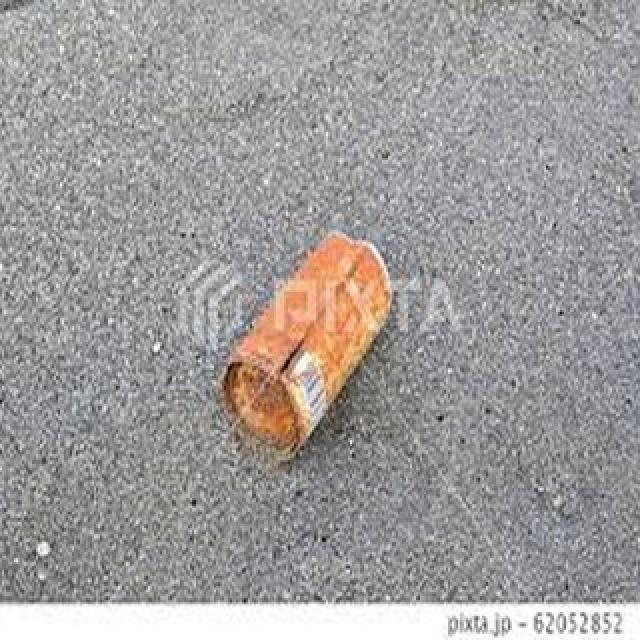recyclable: (222, 232, 396, 459)
